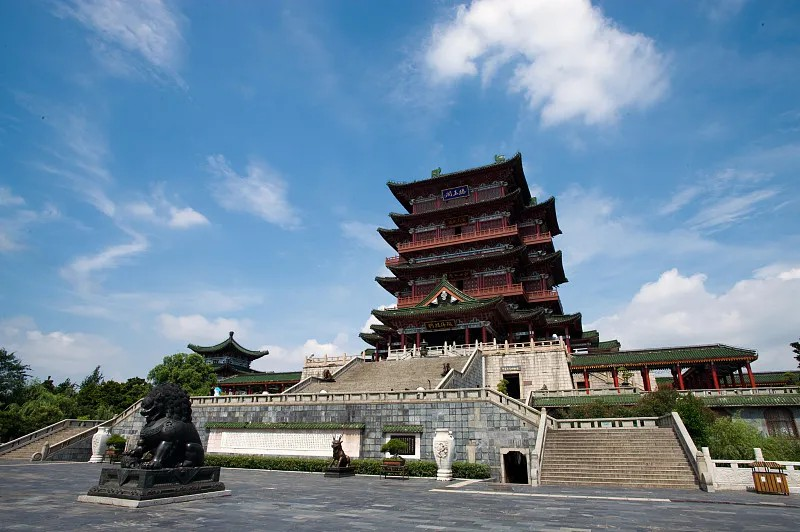Teng: (360, 153, 622, 353)
